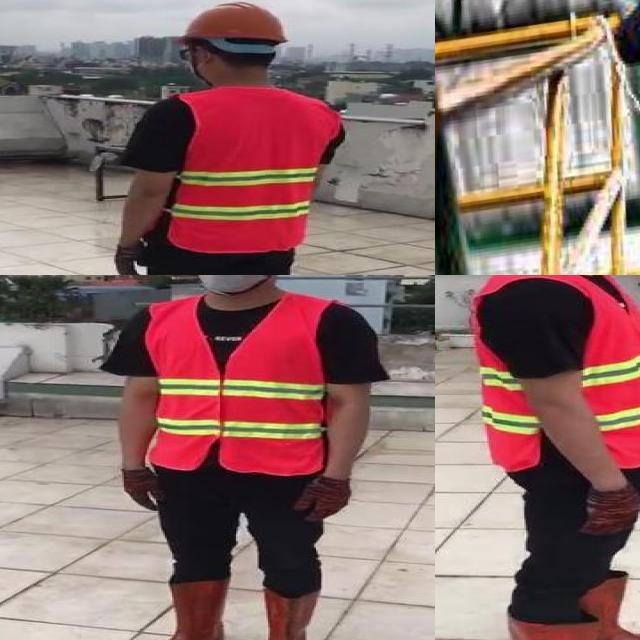boots: (143, 580, 227, 640), (506, 609, 640, 640), (579, 577, 640, 640), (259, 586, 317, 640)
face_mask: (183, 275, 272, 294)
hand_glove: (578, 487, 640, 538), (291, 477, 352, 523), (120, 468, 166, 514), (113, 240, 151, 275)
head_helmet: (172, 0, 294, 46)
person: (114, 275, 388, 640), (446, 275, 640, 640), (112, 0, 352, 275)
vest: (471, 275, 640, 471), (144, 296, 326, 476), (169, 85, 341, 253)
